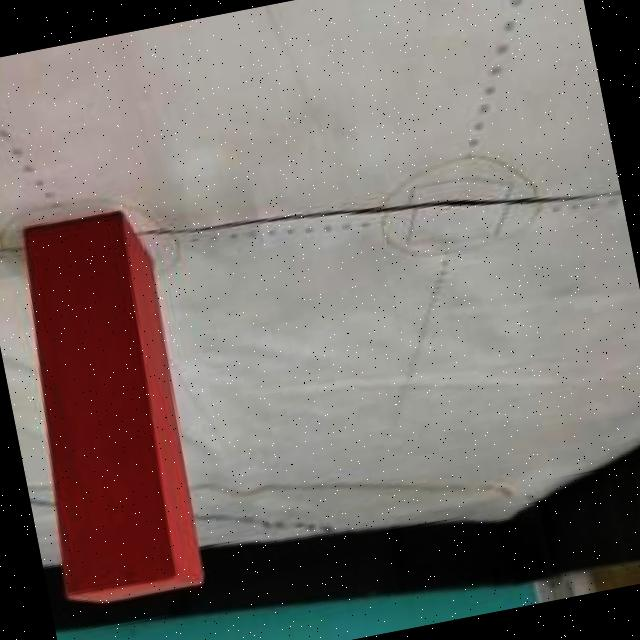redbox: (0, 202, 217, 614)
